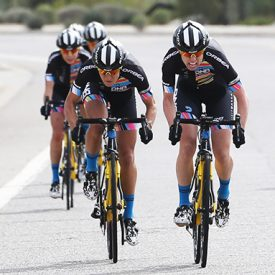helmet: (172, 19, 209, 53), (91, 39, 123, 71), (55, 29, 79, 48)
